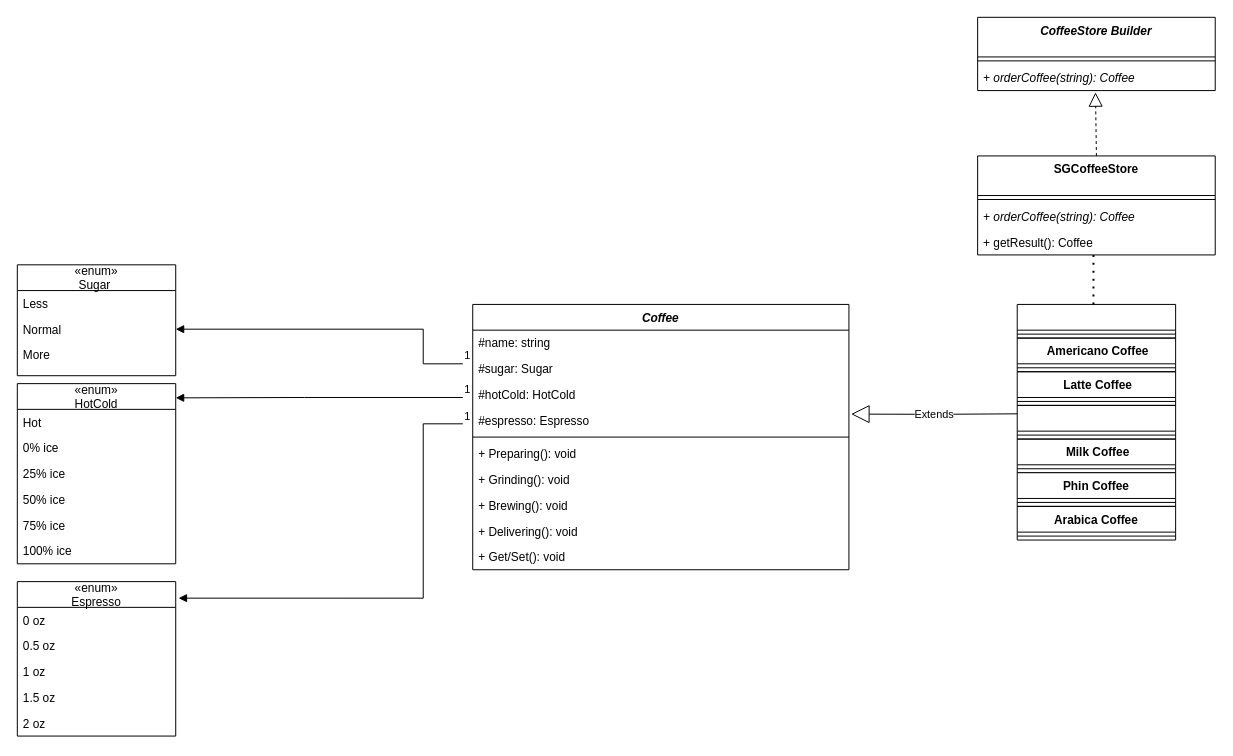
The diagram is 1233 pixels wide and 756 high, and some of its shapes have lost their labels. Each missing label, with the centre of its shape:
Black Coffee: point (1096, 421)
Cappuccino Coffee: point (1096, 320)
